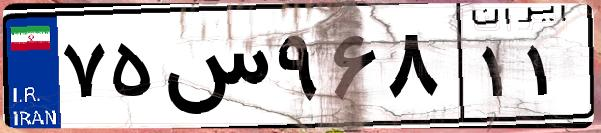1: (475, 38, 525, 113), (525, 38, 570, 115)
5: (110, 28, 158, 98)
6: (330, 28, 385, 110)
7: (57, 26, 110, 100)
8: (385, 28, 445, 110)
9: (270, 28, 330, 110)
س: (158, 20, 270, 120)
